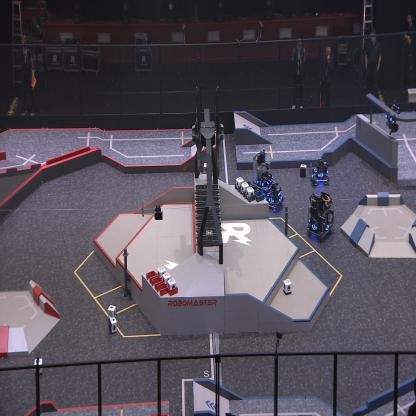car: (306, 191, 336, 242), (251, 148, 278, 198), (263, 180, 285, 212), (309, 156, 330, 187)
